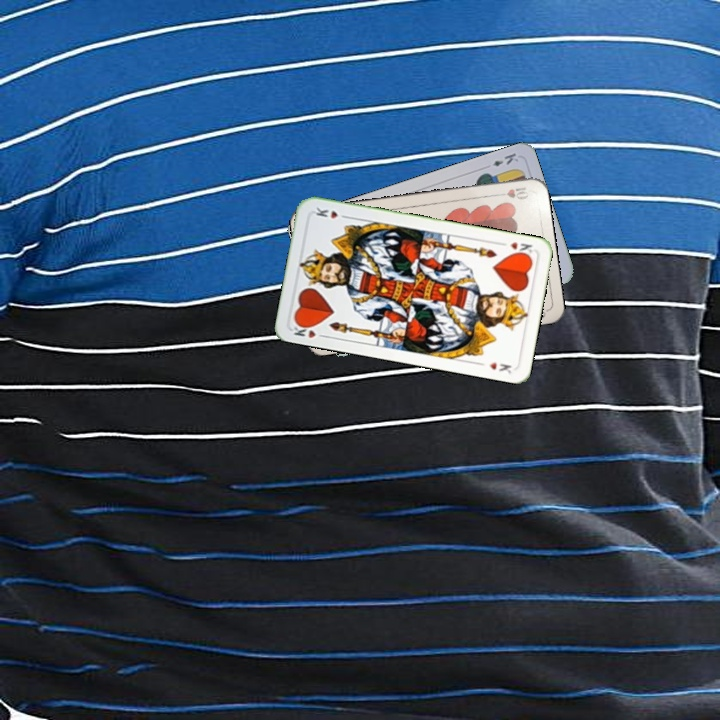EK: (489, 149, 521, 169)
H10: (491, 183, 532, 202)
HK: (289, 318, 329, 341), (506, 238, 535, 259)
